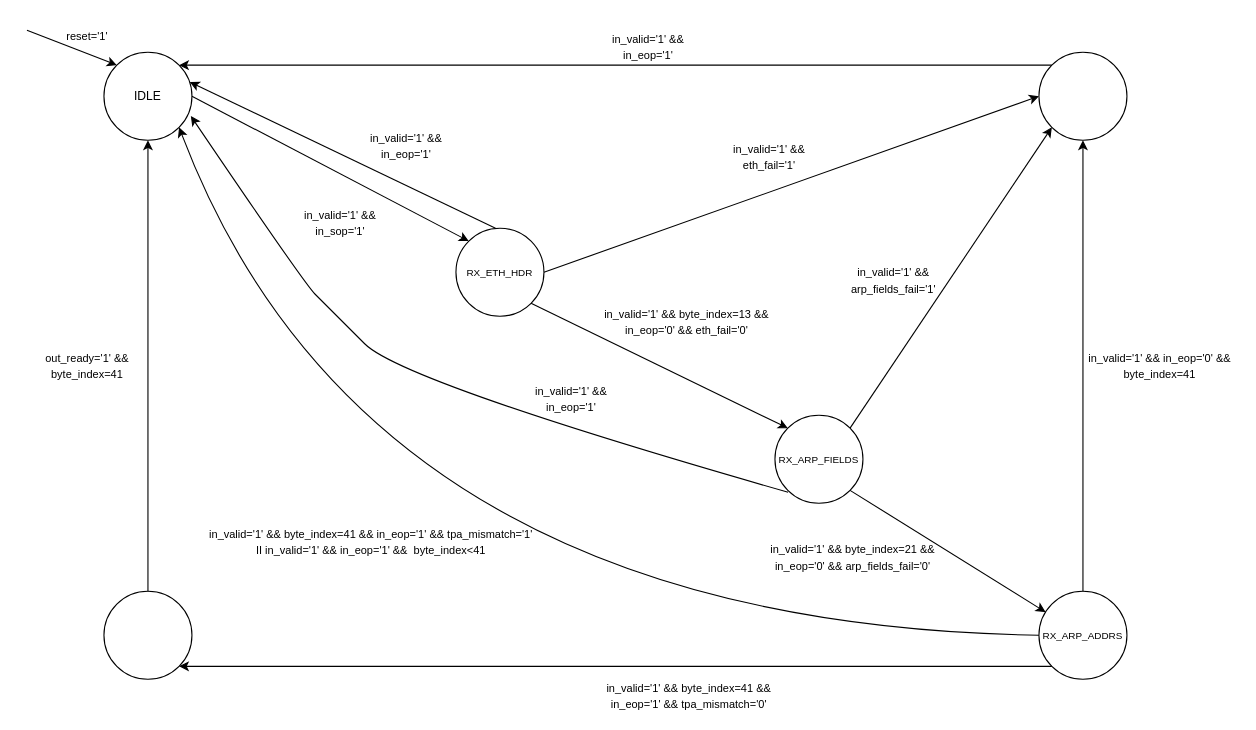
This 1256x730 diagram has some shape labels left out. Each missing label, with the box of its shape:
DROP: (1038, 51, 1127, 140)
TX_SEND: (103, 590, 192, 679)
